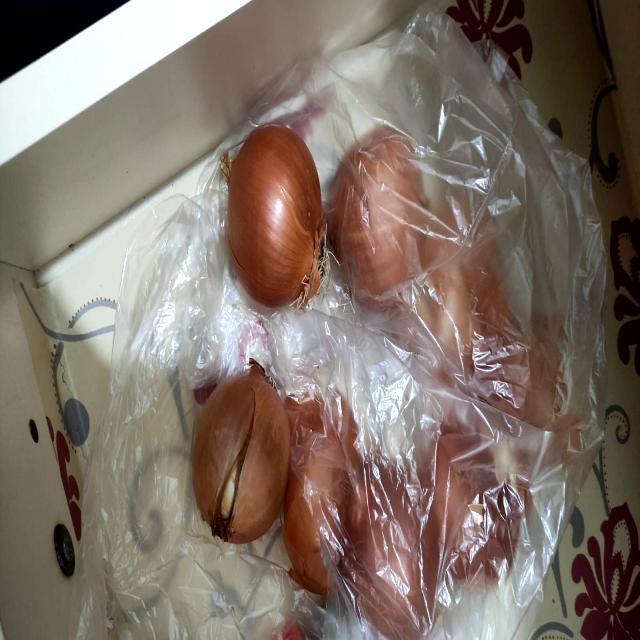onion: (217, 114, 334, 308), (190, 352, 294, 545)
